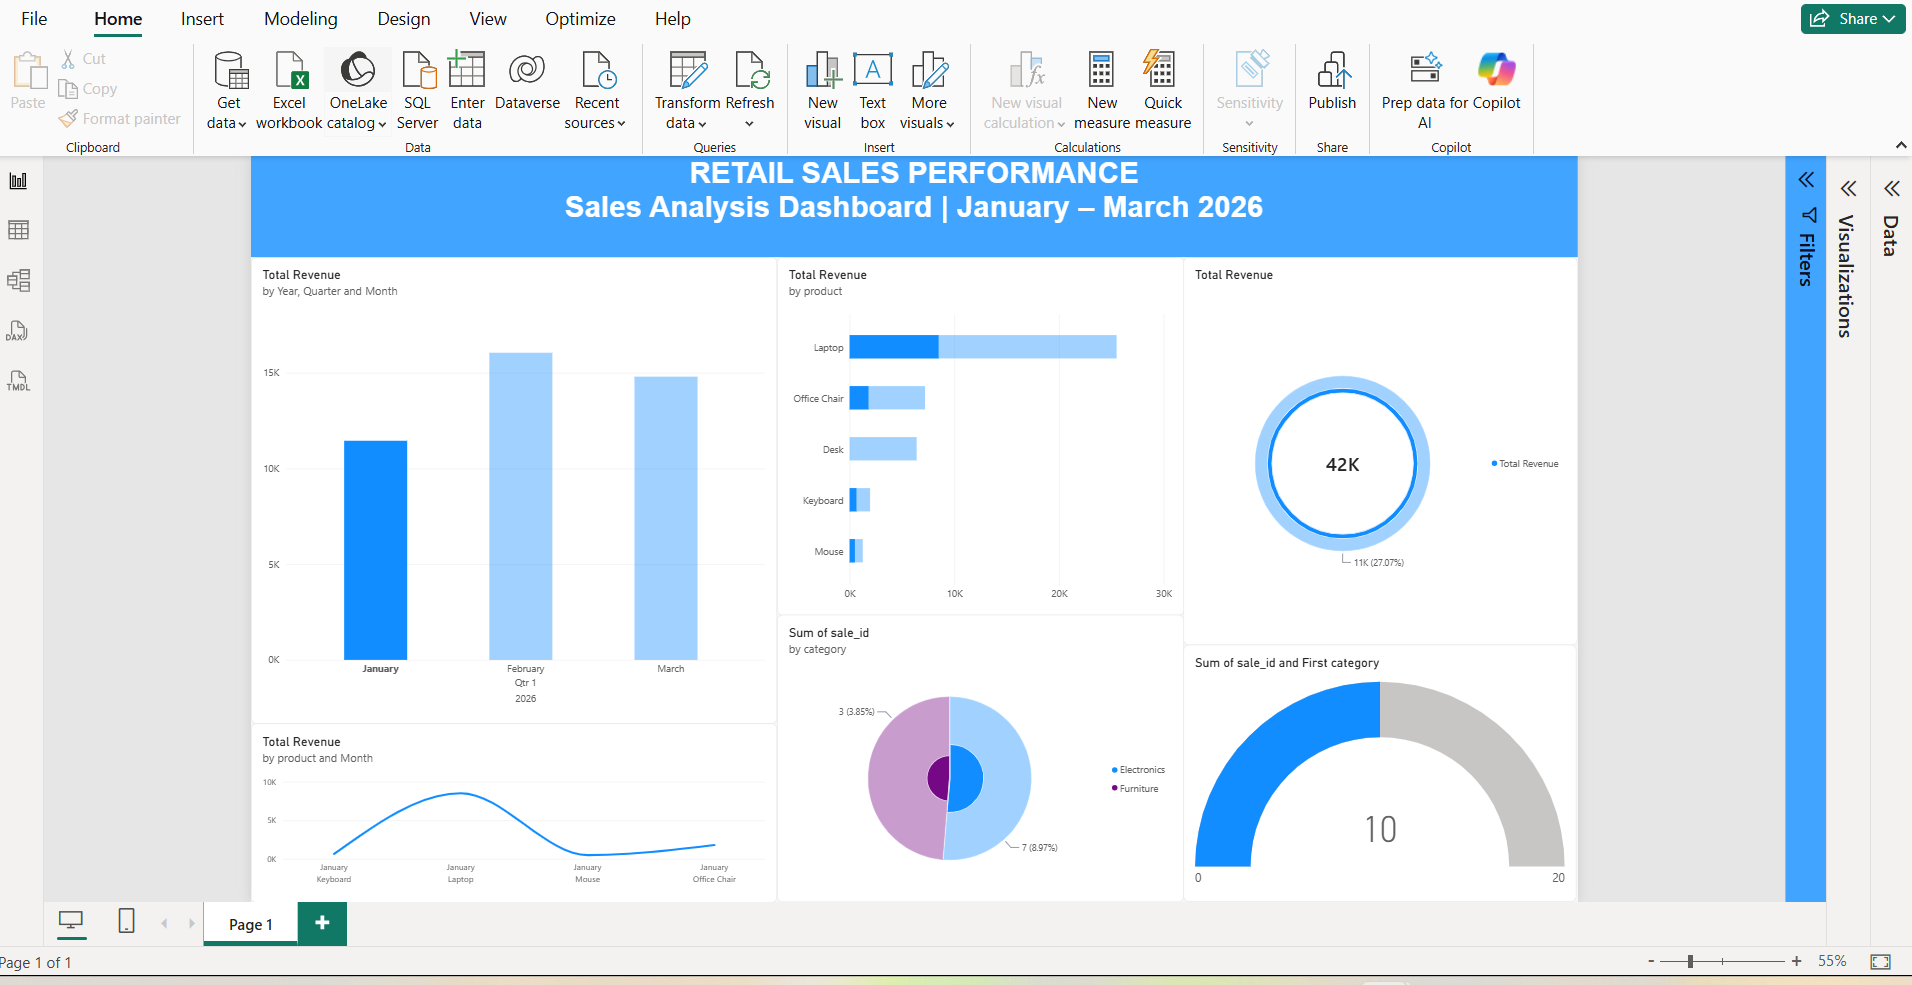

The dashboard page shown, as its layout file describes it:
{"tool":"powerbi","page":{"name":"Page 1","canvas":[1920,1080],"ordinal":0},"visuals":[{"type":"donutChart","fields":{"Y":["sales.Total Revenue"]},"box":[1350.3,146.1,570.2,561.9],"z":0},{"type":"columnChart","fields":{"Category":["sales.sale_date.Variation.Date Hierarchy.Year","sales.sale_date.Variation.Date Hierarchy.Quarter","sales.sale_date.Variation.Date Hierarchy.Month"],"Y":["sales.Total Revenue"]},"box":[0,146.1,761.6,675.1],"z":1},{"type":"clusteredBarChart","fields":{"Category":["sales.product"],"Y":["sales.Total Revenue"]},"box":[761.6,146.1,588.7,518.7],"z":2},{"type":"textbox","box":[0,0,1920.4,146.1],"z":3},{"type":"lineChart","fields":{"Category":["sales.product","sales.sale_date.Variation.Date Hierarchy.Month"],"Y":["sales.Total Revenue"]},"box":[0,821.3,761.6,259.3],"z":4},{"type":"pieChart","fields":{"Category":["sales.category"],"Y":["Sum(sales.sale_id)"]},"box":[761.6,664.8,588.7,415.8],"z":5},{"type":"gauge","fields":{"Y":["Sum(sales.sale_id)"]},"box":[1350.3,708.1,569,372],"z":6}]}

Visuals, with their boxes on the page's 1920x1080 design canvas (x1, y1, x2, y2). These are canvas units, not pixel positions in the 1912x985 screenshot, which may show the page scaled, cropped or inside an application window:
donutChart - sales.Total Revenue: (1350, 146, 1920, 708)
columnChart - sales.sale_date.Variation.Date Hierarchy.Year x sales.sale_date.Variation.Date Hierarchy.Quarter: (0, 146, 762, 821)
clusteredBarChart - sales.product x sales.Total Revenue: (762, 146, 1350, 665)
textbox: (0, 0, 1920, 146)
lineChart - sales.product x sales.sale_date.Variation.Date Hierarchy.Month: (0, 821, 762, 1081)
pieChart - sales.category x Sum(sales.sale_id): (762, 665, 1350, 1081)
gauge - Sum(sales.sale_id): (1350, 708, 1919, 1080)
